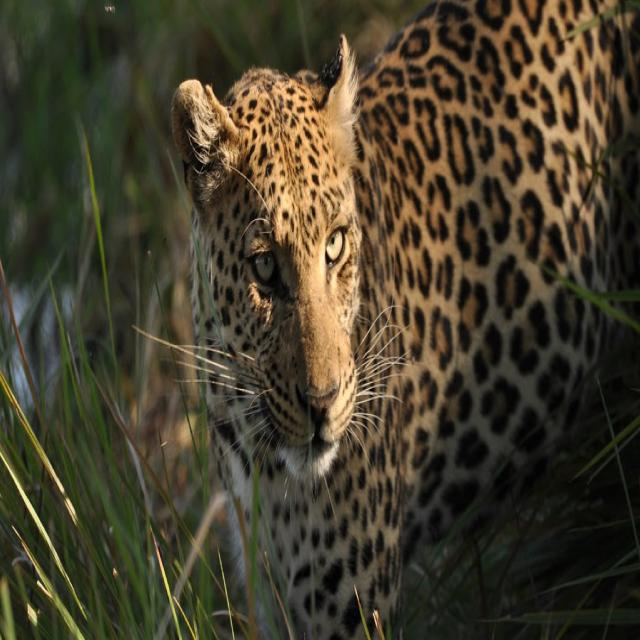Leopard: (175, 1, 640, 640)
